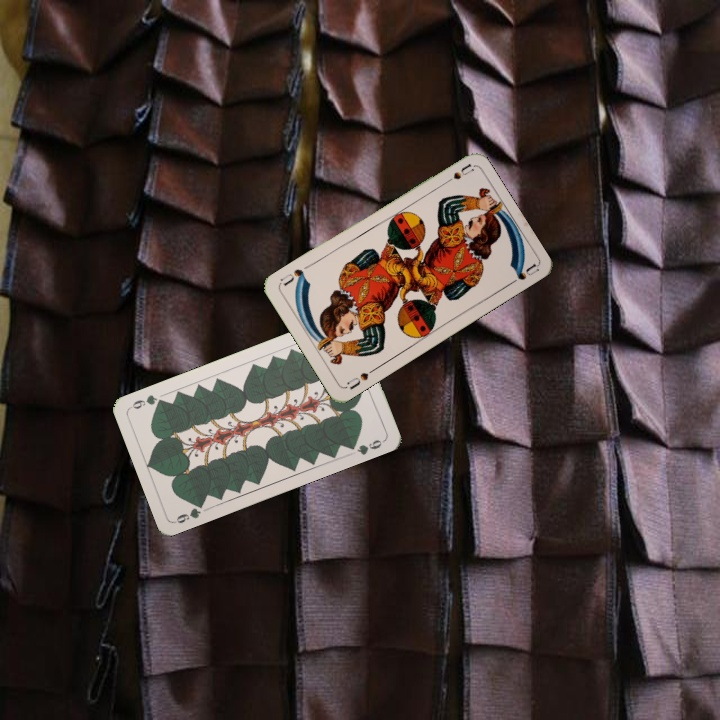G9: (171, 498, 207, 526)
SU: (437, 160, 476, 189), (343, 364, 378, 392)
